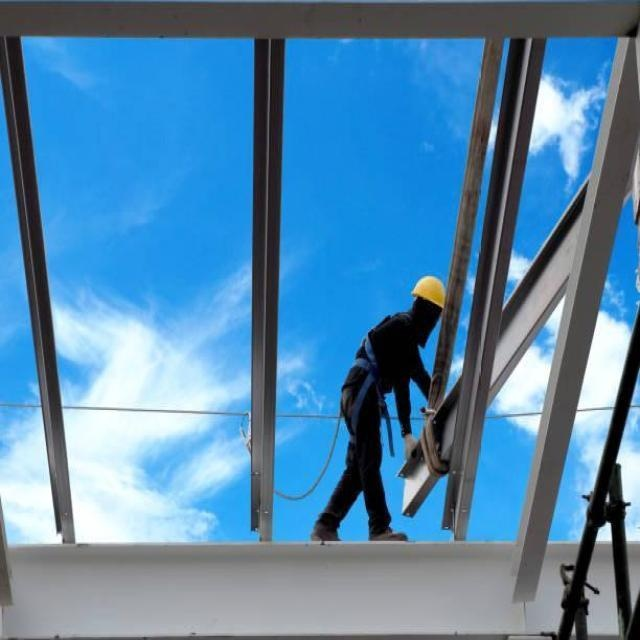Arnes_seguridad: (341, 312, 414, 445)
